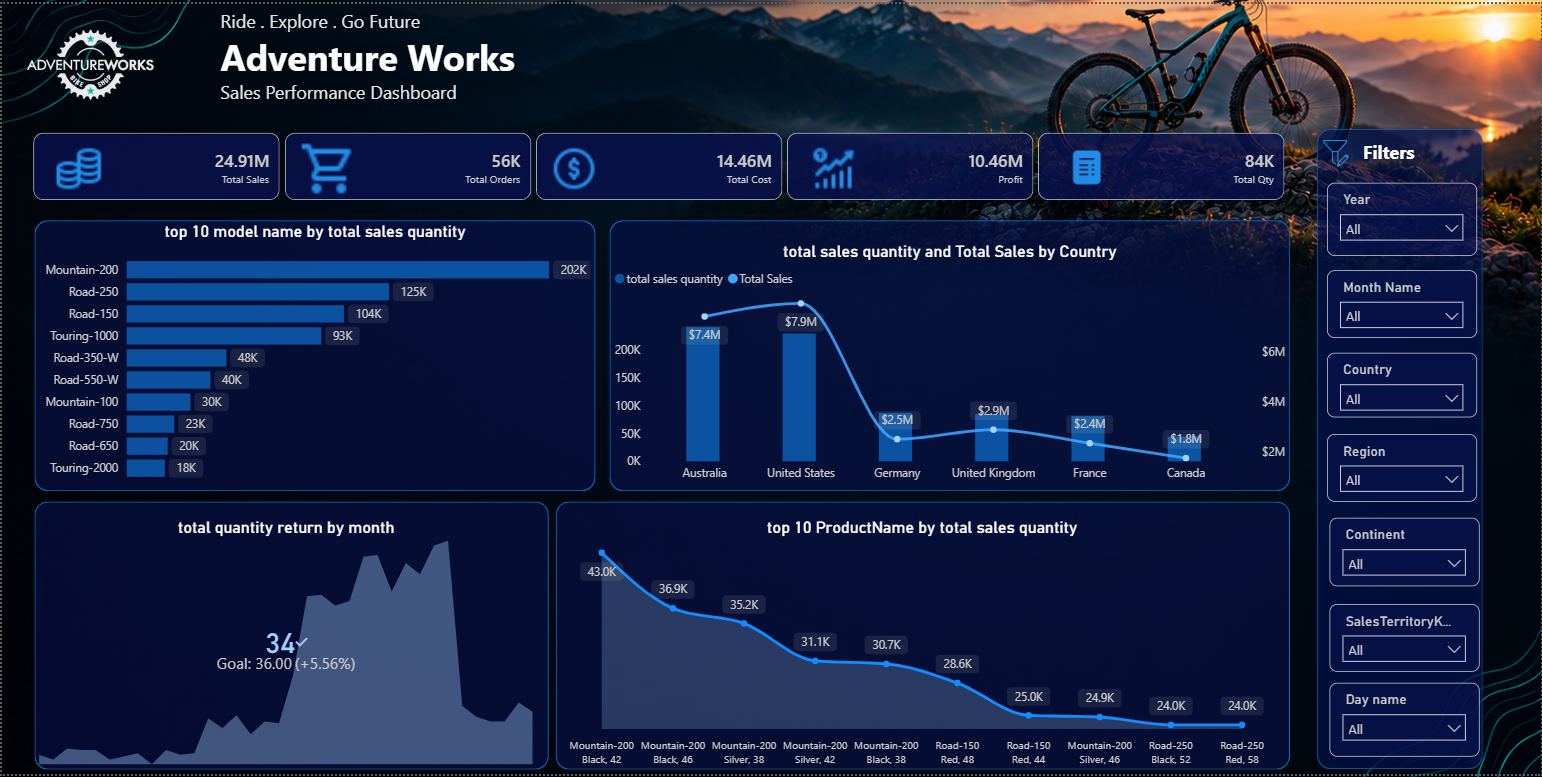

The page's visual inventory and layout, read from the dashboard file:
{"tool":"powerbi","page":{"name":"Overview","canvas":[1600,800],"ordinal":1},"visuals":[{"type":"shape","box":[1362.9,125.7,180,672.9],"z":1000},{"type":"slicer","fields":{"Values":["Territories.Continent"]},"box":[1378.6,534.3,155.7,71.4],"z":2000},{"type":"slicer","fields":{"Values":["Territories.Country"]},"box":[1377.1,362.9,155.7,67.1],"z":3000},{"type":"slicer","fields":{"Values":["Territories.Region"]},"box":[1377.1,447.1,155.7,70],"z":4000},{"type":"slicer","fields":{"Values":["Territories.SalesTerritoryKey"]},"box":[1378.6,622.9,155.7,70],"z":5000},{"type":"slicer","fields":{"Values":["Calender Table.Year"]},"box":[1377.1,185.7,155.7,75.7],"z":6000},{"type":"slicer","fields":{"Values":["Calender Table.Day name"]},"box":[1378.6,705.7,155.7,77.1],"z":7000},{"type":"slicer","fields":{"Values":["Calender Table.Month Name"]},"box":[1377.1,277.1,155.7,70],"z":8000},{"type":"shape","box":[32.9,225.7,545.7,574.3],"z":9000},{"type":"shape","box":[582.9,224.3,757.1,285.7],"z":11000},{"type":"shape","box":[582.9,518.6,757.1,280],"z":12000},{"type":"cardVisual","fields":{"Data":["Sales.Total Sales","Sales.Total Orders","Sales.Total Cost","Sales.Profit","Sales.Total Qty"]},"box":[15.7,117.1,1347.1,104.3],"z":13000},{"type":"image","box":[15.7,0,152.9,125.7],"z":14000},{"type":"image","box":[48.6,135.7,65.7,70],"z":15000},{"type":"image","box":[305.7,141.4,57.1,65.7],"z":16000},{"type":"image","box":[567.1,135.7,51.4,70],"z":17000},{"type":"image","box":[835.7,135.7,51.4,70],"z":18000},{"type":"image","box":[1097.1,137.1,57.1,70],"z":19000},{"type":"textbox","box":[1408.6,135.7,102.9,40],"z":25000},{"type":"image","box":[1362.9,140,45.7,28.6],"z":26000},{"type":"textbox","box":[221.4,0,357.1,125.7],"z":27000},{"type":"decompositionTreeVisual","fields":{"Analyze":["Sales.Total Sales"],"ExplainBy":["Territories.Country","Territories.Region"]},"box":[32.9,247.1,524.3,551.4],"z":27001},{"type":"lineChart","fields":{"Category":["Calender Table.Year","Calender Table.Month number"],"Y":["Sales.Total Sales running total in Date"]},"box":[582.9,247.1,757.1,251.4],"z":27002},{"type":"kpi","fields":{"Indicator":["Sales.Total Sales"],"TrendLine":["Calender Table.start of month"],"Goal":["Sales.target of sales"]},"box":[592.9,534.3,747.1,264.3],"z":27003}]}

Visuals, with their boxes in screenshot pixels (x1, y1, x2, y2), scaled from the page's 1600x800 canvas onto the 1542x777 screenshot:
shape: [x1=1313, y1=122, x2=1487, y2=776]
slicer - Territories.Continent: [x1=1329, y1=519, x2=1479, y2=588]
slicer - Territories.Country: [x1=1327, y1=352, x2=1477, y2=418]
slicer - Territories.Region: [x1=1327, y1=434, x2=1477, y2=502]
slicer - Territories.SalesTerritoryKey: [x1=1329, y1=605, x2=1479, y2=673]
slicer - Calender Table.Year: [x1=1327, y1=180, x2=1477, y2=254]
slicer - Calender Table.Day name: [x1=1329, y1=685, x2=1479, y2=760]
slicer - Calender Table.Month Name: [x1=1327, y1=269, x2=1477, y2=337]
shape: [x1=32, y1=219, x2=558, y2=776]
shape: [x1=562, y1=218, x2=1291, y2=495]
shape: [x1=562, y1=504, x2=1291, y2=776]
cardVisual - Sales.Total Sales x Sales.Total Orders: [x1=15, y1=114, x2=1313, y2=215]
image: [x1=15, y1=0, x2=162, y2=122]
image: [x1=47, y1=132, x2=110, y2=200]
image: [x1=295, y1=137, x2=350, y2=201]
image: [x1=547, y1=132, x2=596, y2=200]
image: [x1=805, y1=132, x2=855, y2=200]
image: [x1=1057, y1=133, x2=1112, y2=201]
textbox: [x1=1358, y1=132, x2=1457, y2=171]
image: [x1=1313, y1=136, x2=1358, y2=164]
textbox: [x1=213, y1=0, x2=558, y2=122]
decompositionTreeVisual - Sales.Total Sales x Territories.Country: [x1=32, y1=240, x2=537, y2=776]
lineChart - Calender Table.Year x Calender Table.Month number: [x1=562, y1=240, x2=1291, y2=484]
kpi - Sales.Total Sales x Calender Table.start of month: [x1=571, y1=519, x2=1291, y2=776]
